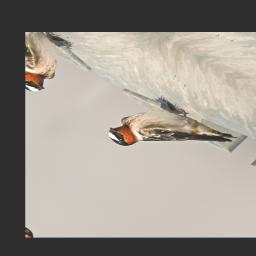Swallow: (100, 86, 239, 187)
